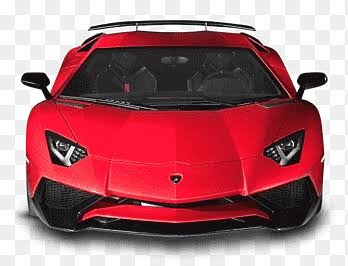car: (24, 20, 320, 232)
